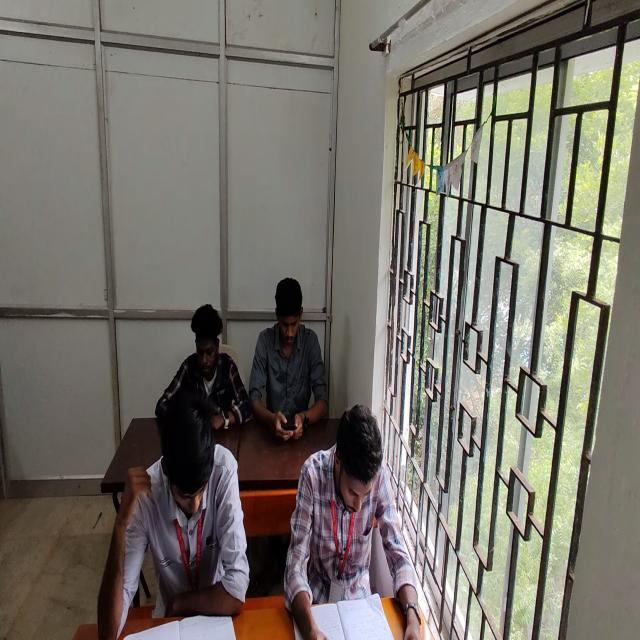reading: (99, 393, 249, 639), (288, 405, 408, 640)
using_mobile: (250, 279, 330, 442), (155, 302, 251, 435)
